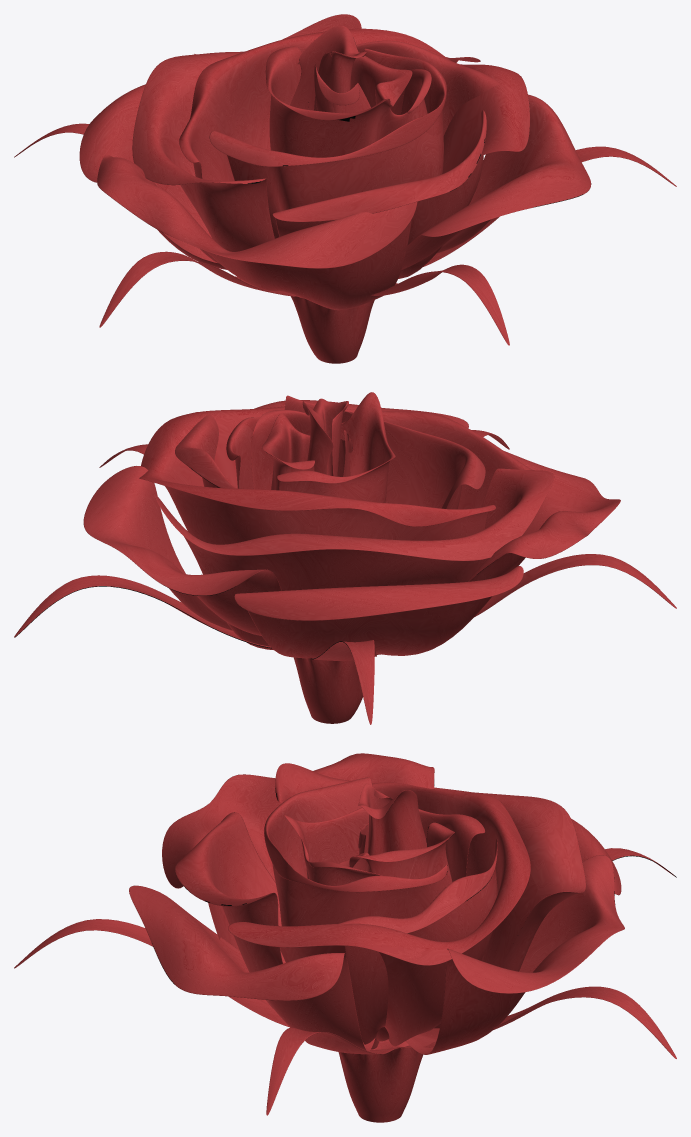
Rendered from rose_5_processed.obj.
The picture shows the model from 3 angles, top to bottom: view 1: azimuth 30°, elevation 25°; view 2: azimuth 150°, elevation 25°; view 3: azimuth 270°, elevation 25°; orthographic projection. The views are drawn at different scales.
Parts seen in each view (by area): view 1: Mesh; view 2: Mesh; view 3: Mesh.
Part boxes in pixels (box(x1,y1,x2,y2)): Mesh: box(14, 14, 676, 363); Mesh: box(14, 392, 676, 724); Mesh: box(14, 753, 676, 1122).
Size of the model in its own units: 71.25 by 37.39 by 67.77.
